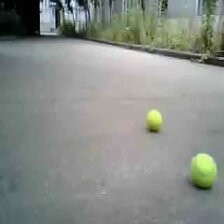tennis: (190, 152, 216, 186), (147, 110, 162, 133)
